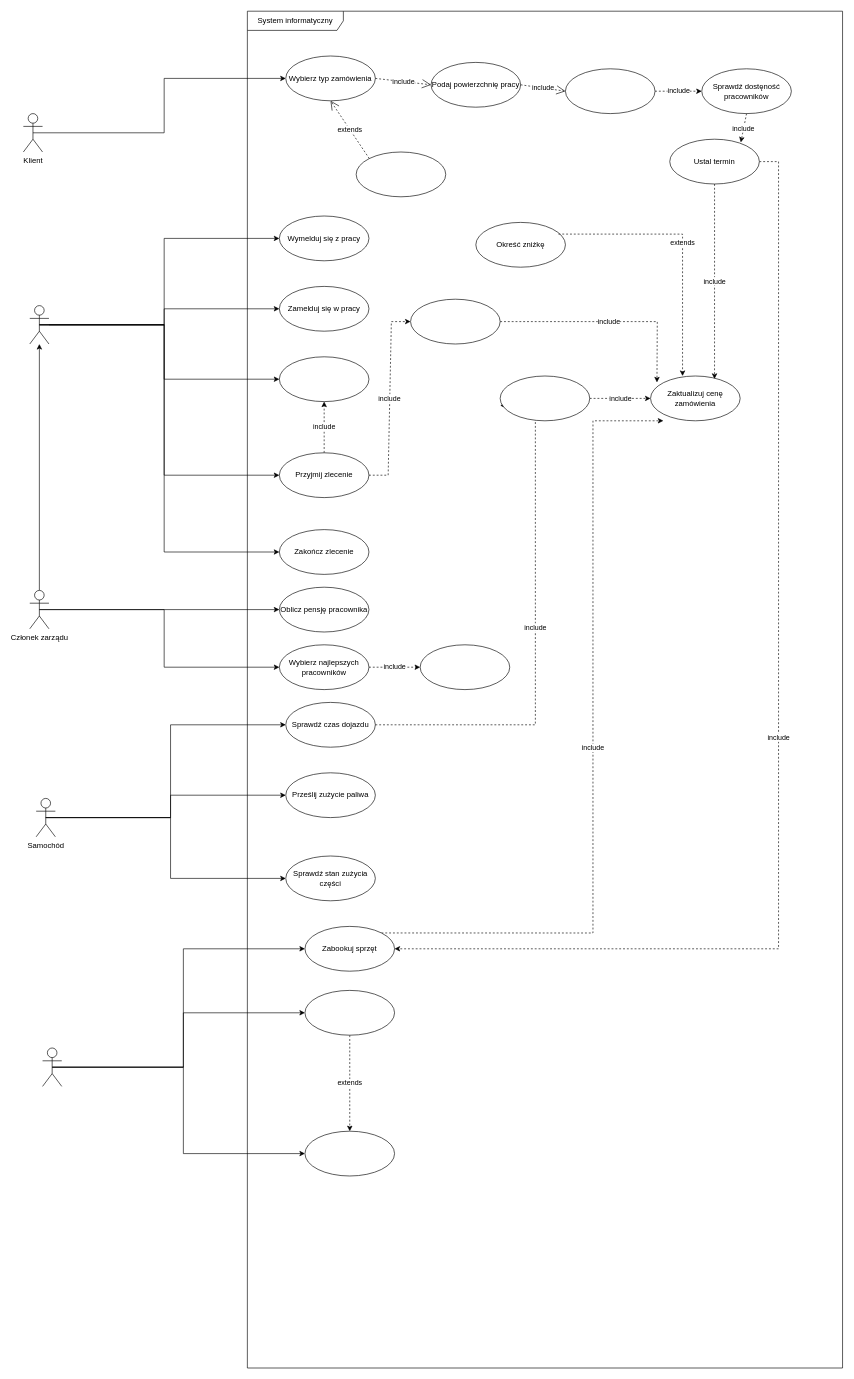
Image size: 854x1379. Some labels were removed from this diagram. The shapes that lost their labels are listed below. From the top down, each one's centre as x and y in pixels, then its label:
the point at 610,91: Oblicz szacowane użycie środków czystości
the point at 401,174: Usługa dodatkowa
the point at 39,324: Pracownik
the point at 455,321: Oblicz czas pracy
the point at 324,379: Sprawdź dostępność sprzętu
the point at 545,398: Oszacuj cenę dojazdu
the point at 465,667: Rozdaj premie
the point at 349,1012: Zamów produkty
the point at 52,1066: Magazyn
the point at 349,1153: Sprawdź stan środków czystości
